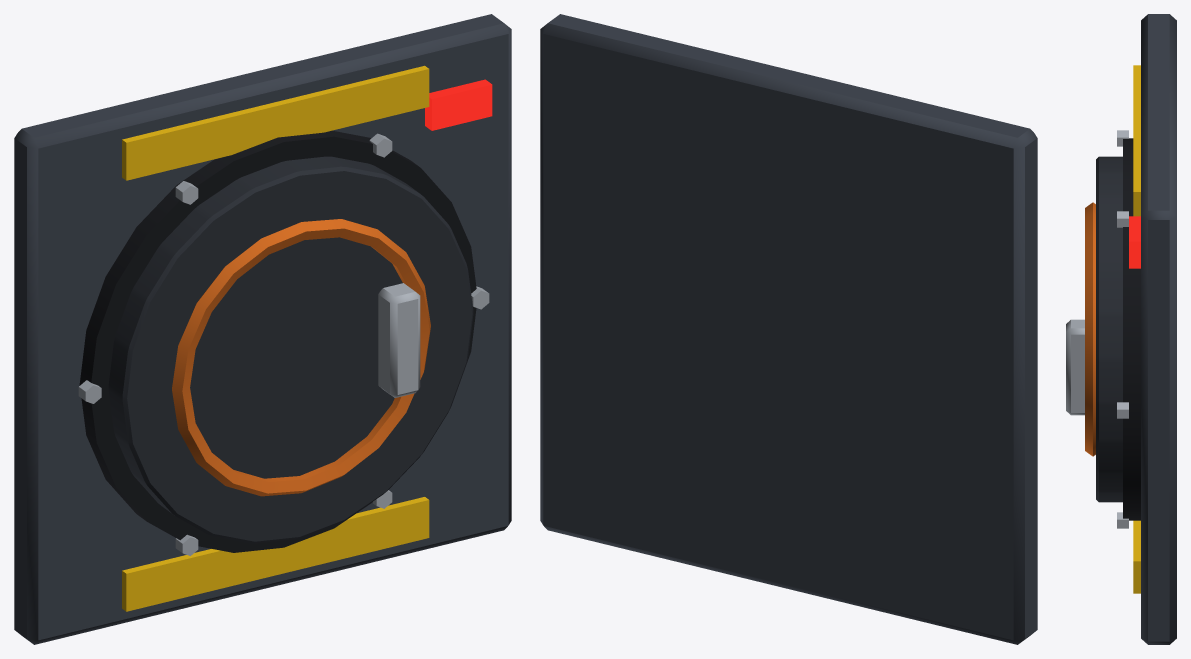
File: bin_incinerator_hatch.glb
3 views of the same model, side by side, from view 1: azimuth 30°, elevation 25°; view 2: azimuth 150°, elevation 25°; view 3: azimuth 270°, elevation 25° (orthographic). The views are drawn at different scales.
Parts seen in each view (by area): view 1: body, hatch; view 2: body; view 3: body, hatch.
Part boxes in pixels (left/top/right/bottom): body: left=14, top=14, right=511, bottom=644; hatch: left=108, top=156, right=473, bottom=543; body: left=540, top=14, right=1037, bottom=644; body: left=1117, top=14, right=1176, bottom=644; hatch: left=1066, top=156, right=1122, bottom=502.
Size of the model in its own units: 0.8 by 0.8 by 0.185.
